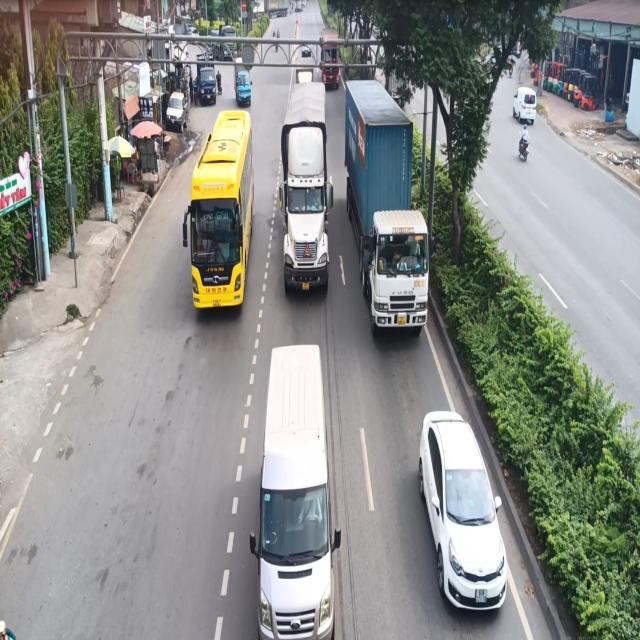bus: (189, 104, 256, 327)
car: (406, 389, 511, 620)
truck: (253, 345, 344, 640), (340, 75, 433, 344), (280, 85, 338, 294)
